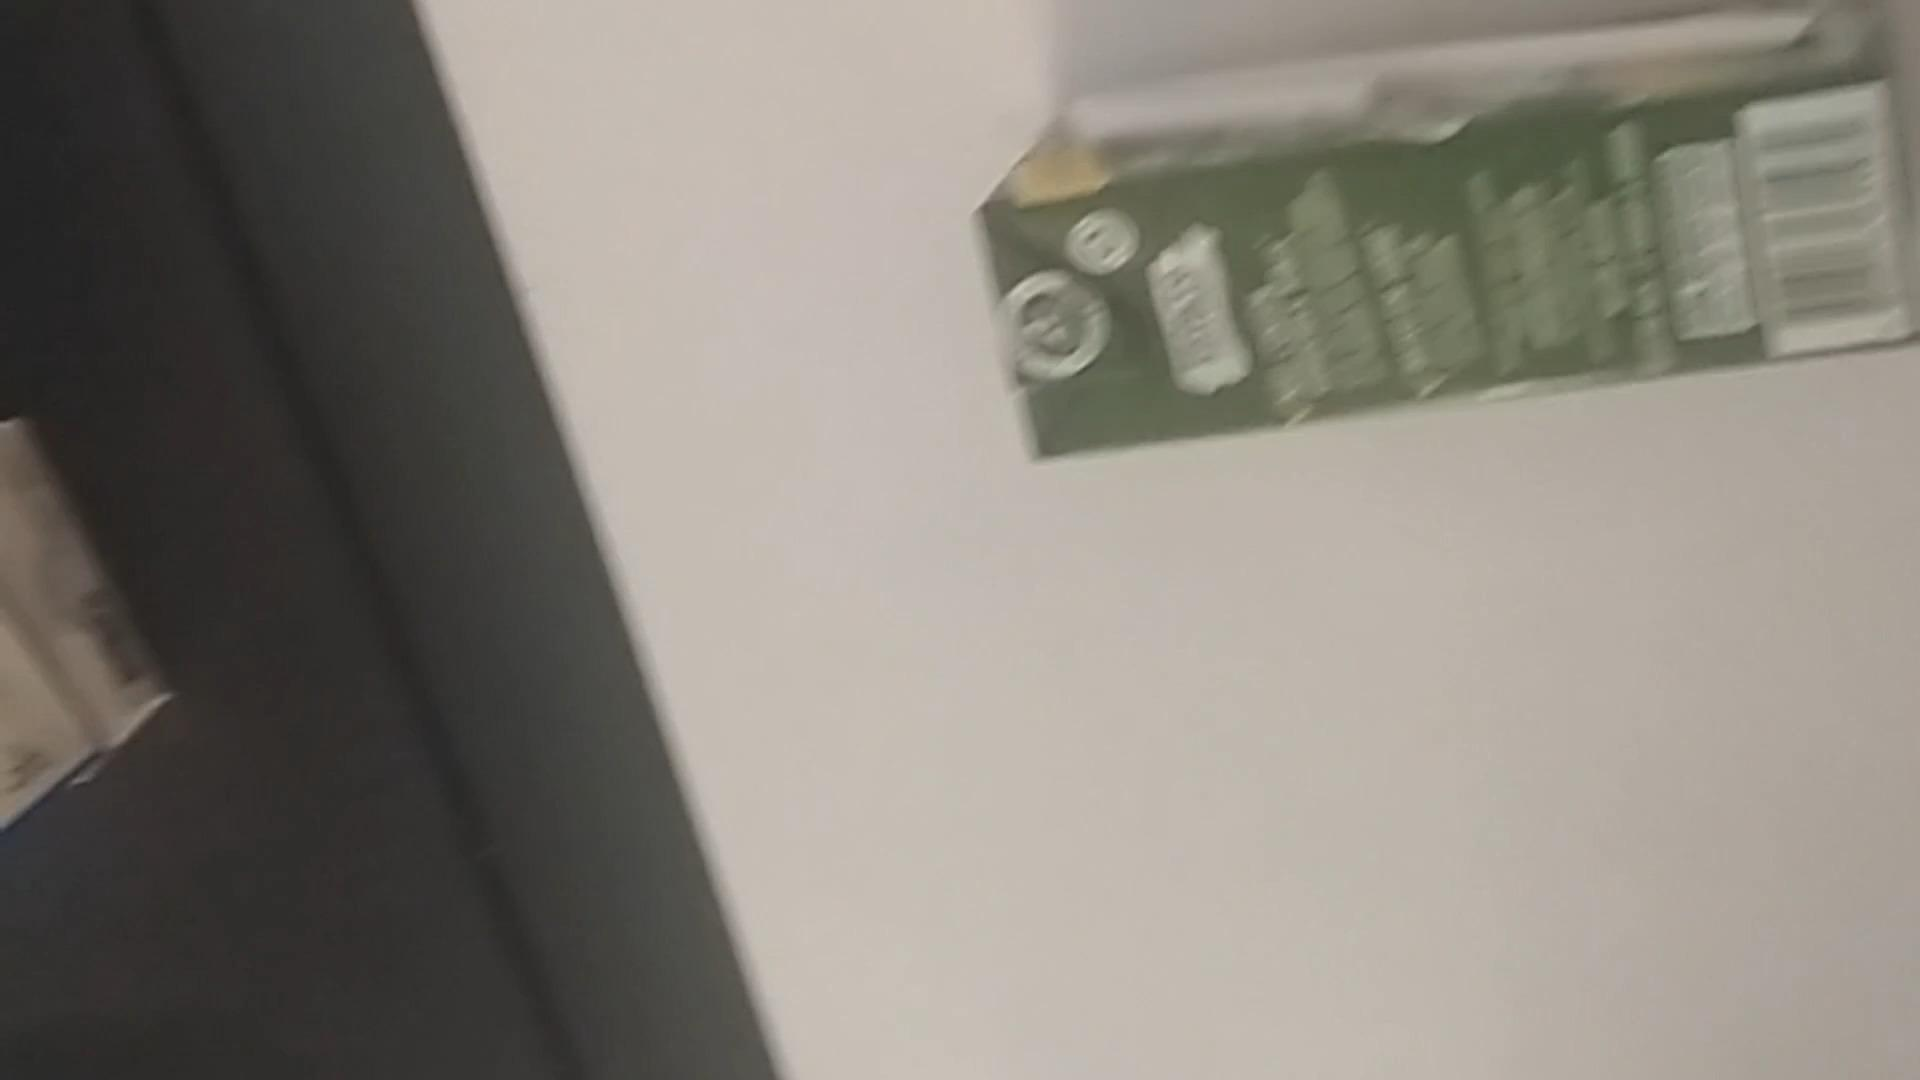coco: (957, 0, 1920, 468)
